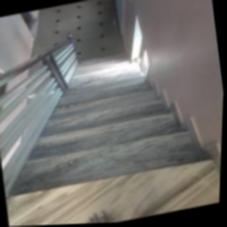Animal: (9, 101, 185, 210)
